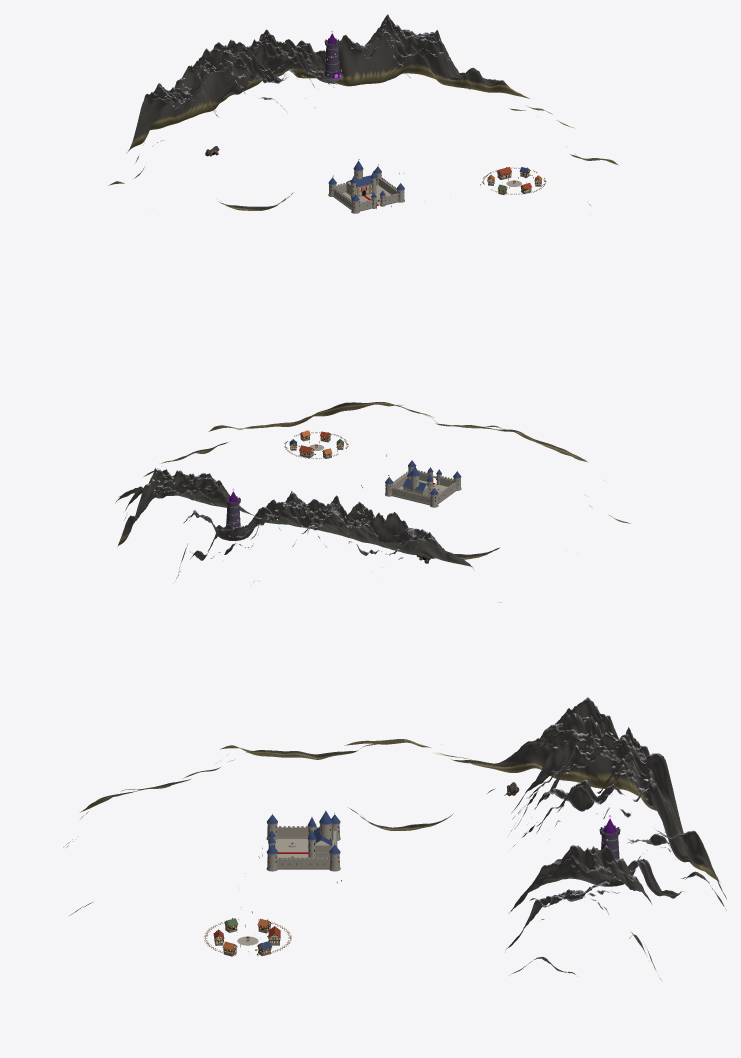
Rendered from world.glb.
The picture shows the model from 3 angles, top to bottom: view 1: azimuth 30°, elevation 25°; view 2: azimuth 150°, elevation 25°; view 3: azimuth 270°, elevation 25°; orthographic projection. The views are drawn at different scales.
Visible parts, largest first — view 1: Terrain, Castle, DarkTower; view 2: Terrain, Castle; view 3: Terrain, Castle.
Boxes of the visible parts, left/top/right/bottom form: Terrain: left=108, top=14, right=617, bottom=213; Castle: left=328, top=159, right=404, bottom=213; DarkTower: left=321, top=30, right=343, bottom=81; Terrain: left=115, top=402, right=630, bottom=602; Castle: left=385, top=460, right=461, bottom=507; Terrain: left=63, top=697, right=726, bottom=980; Castle: left=266, top=810, right=340, bottom=871.
Size of what is drawn, in the model's own units: 640 by 122 by 640.
